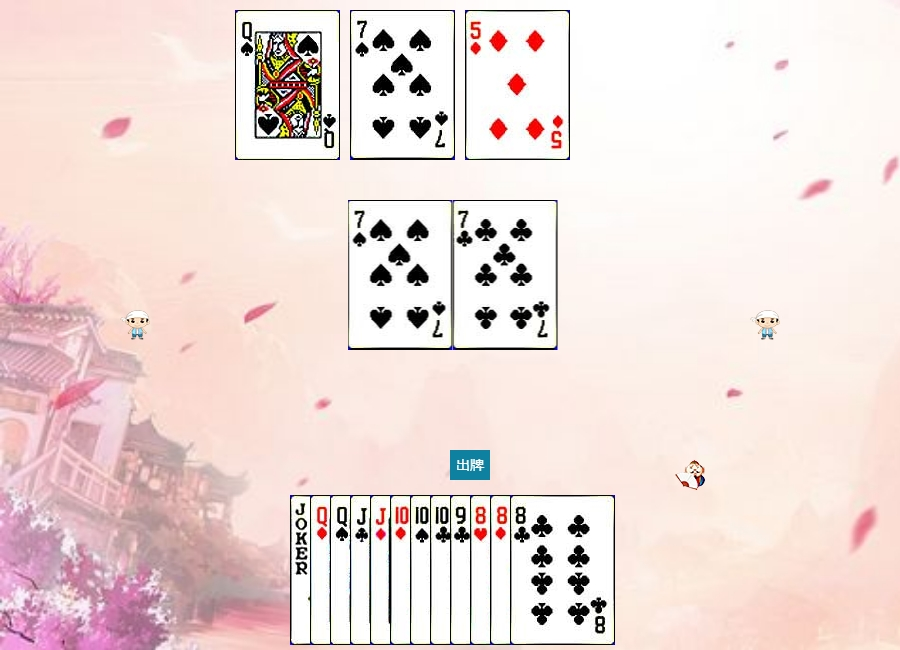10~1: (390, 495, 495, 645)
10~2: (430, 495, 535, 645)
10~4: (410, 495, 515, 645)
11~1: (370, 495, 475, 645)
11~2: (350, 495, 455, 645)
12~1: (310, 495, 415, 645)
12~4: (235, 10, 340, 160), (330, 495, 435, 645)
17~3: (290, 495, 395, 645)
5~1: (465, 10, 570, 160)
7~2: (453, 200, 558, 350)
7~4: (350, 10, 455, 160), (348, 200, 453, 350)
8~1: (490, 495, 595, 645)
8~2: (510, 495, 615, 645)
8~3: (470, 495, 575, 645)
9~2: (450, 495, 555, 645)
